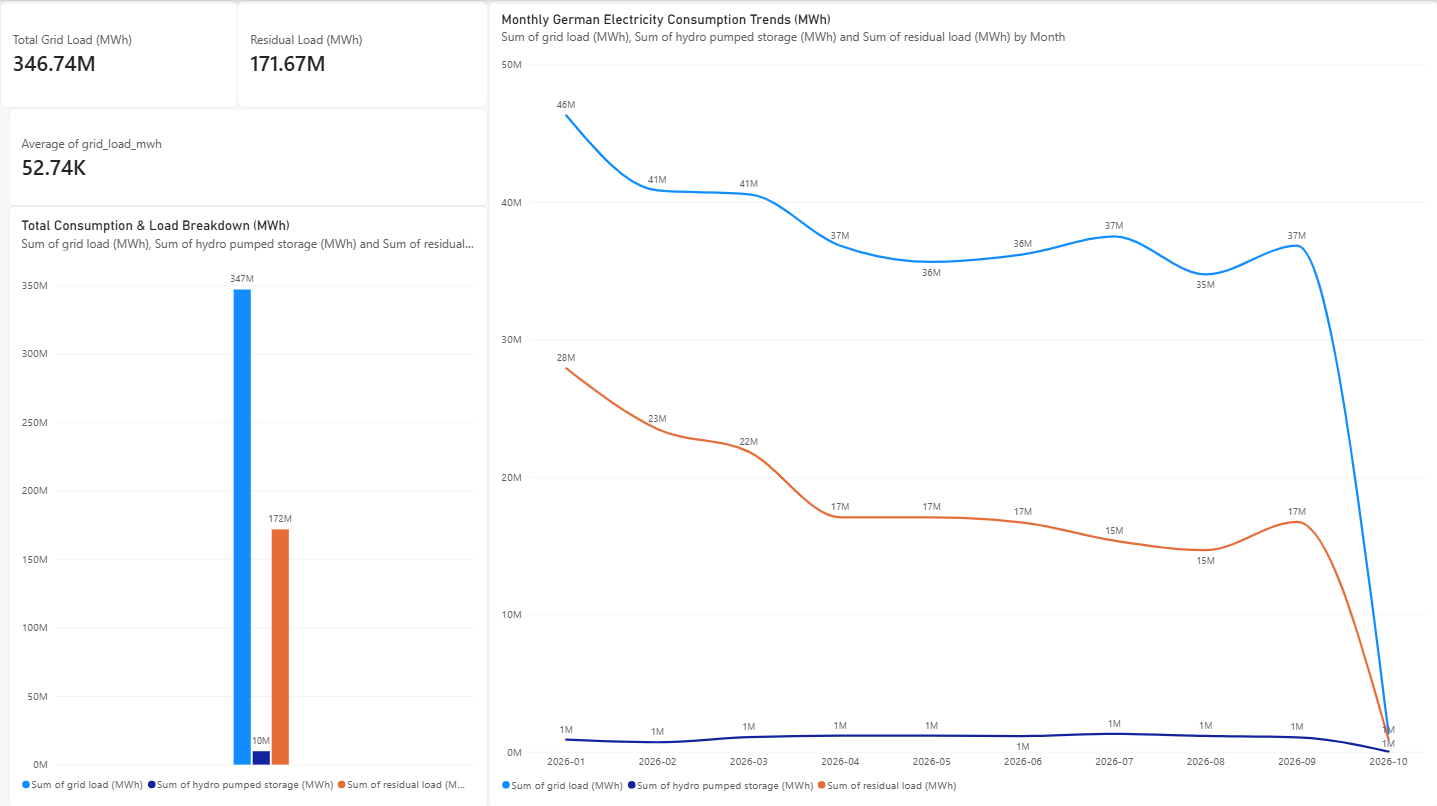

What the dashboard file says about the page in this screenshot:
{"tool":"powerbi","page":{"name":"Page 1","canvas":[1920,1080],"ordinal":0},"visuals":[{"type":"cardVisual","fields":{"Data":["Sum(clean_energy_consumption.grid_load_mwh)"]},"box":[0,0,317.4,144.8],"z":0},{"type":"cardVisual","fields":{"Data":["Sum(clean_energy_consumption.residual_load_mwh)"]},"box":[317.4,0,334.9,144.8],"z":1},{"type":"cardVisual","fields":{"Data":["Avg(clean_energy_consumption.grid_load_mwh)"]},"box":[12.2,144.8,640.1,130.8],"z":2},{"type":"lineChart","title":"Monthly German Electricity Consumption Trends (MWh)","fields":{"Category":["clean_energy_consumption.Month"],"Y":["Sum(clean_energy_consumption.grid_load_mwh)","Sum(clean_energy_consumption.hydro_pumped_storage_mwh)","Sum(clean_energy_consumption.residual_load_mwh)"]},"box":[652.3,0,1268,1079.7],"z":3},{"type":"clusteredColumnChart","title":"Total Consumption & Load Breakdown (MWh)","fields":{"Y":["Sum(clean_energy_consumption.grid_load_mwh)","Sum(clean_energy_consumption.hydro_pumped_storage_mwh)","Sum(clean_energy_consumption.residual_load_mwh)"]},"box":[12.2,275.6,640.1,804.1],"z":4}]}

Visuals, with their boxes in screenshot pixels (x1, y1, x2, y2), scaled from the page's 1920x1080 canvas onto the 1437x806 screenshot:
cardVisual - Sum(clean_energy_consumption.grid_load_mwh): <bbox>0, 0, 238, 108</bbox>
cardVisual - Sum(clean_energy_consumption.residual_load_mwh): <bbox>238, 0, 488, 108</bbox>
cardVisual - Avg(clean_energy_consumption.grid_load_mwh): <bbox>9, 108, 488, 206</bbox>
"Monthly German Electricity Consumption Trends (MWh)" lineChart: <bbox>488, 0, 1436, 805</bbox>
"Total Consumption & Load Breakdown (MWh)" clusteredColumnChart: <bbox>9, 206, 488, 805</bbox>
